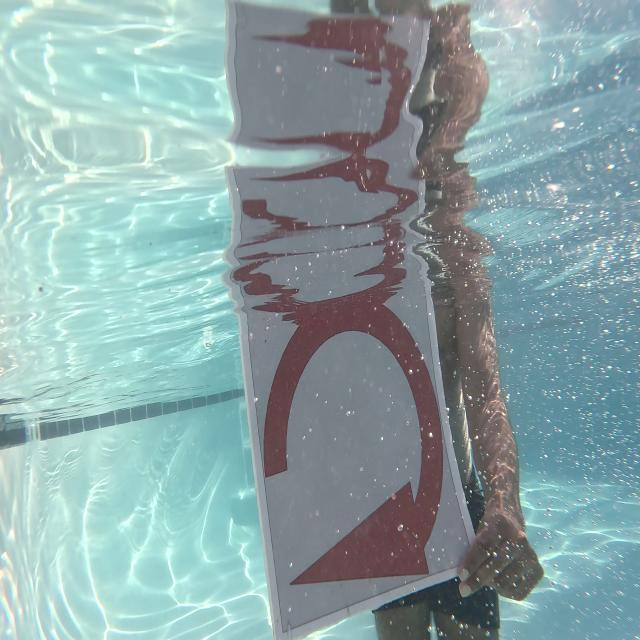red_side: (246, 296, 474, 636)
